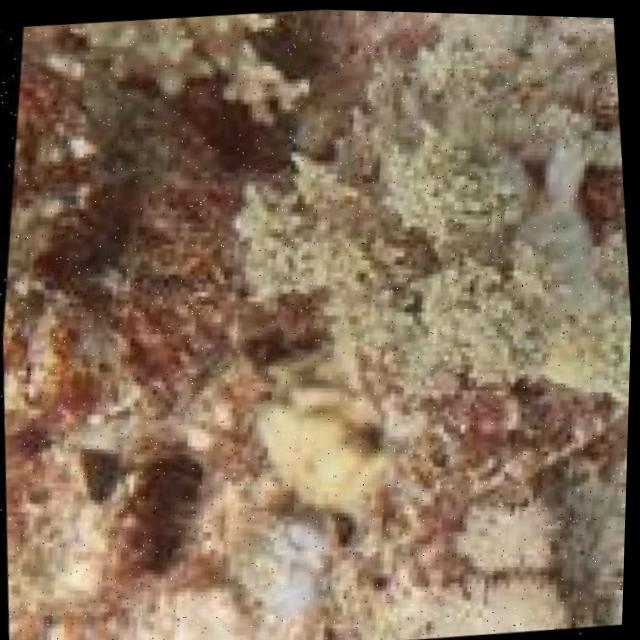Bleached Coral: (206, 5, 640, 424)
